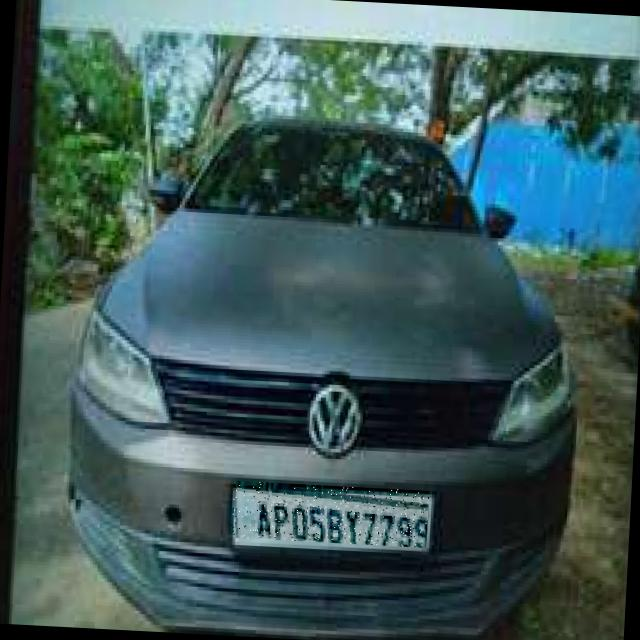Plate: (232, 482, 431, 549)
